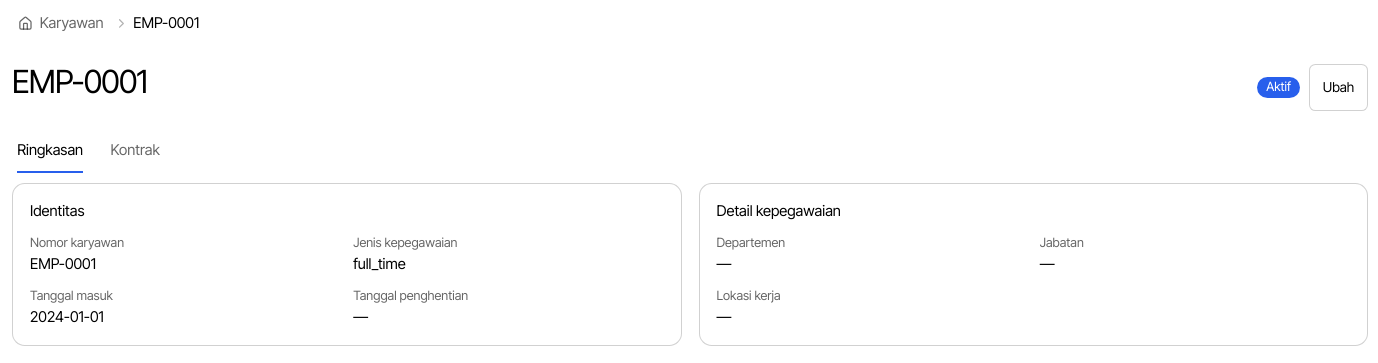
Test: EmployeeDetail branches › renders a contract with inactive state badge
The image size is (1378, 363).
Expected: the heading "EMP-0001" is shown, [12, 64, 147, 100]
Click the tab "Kontrak": (135, 151) [110, 128, 161, 174]
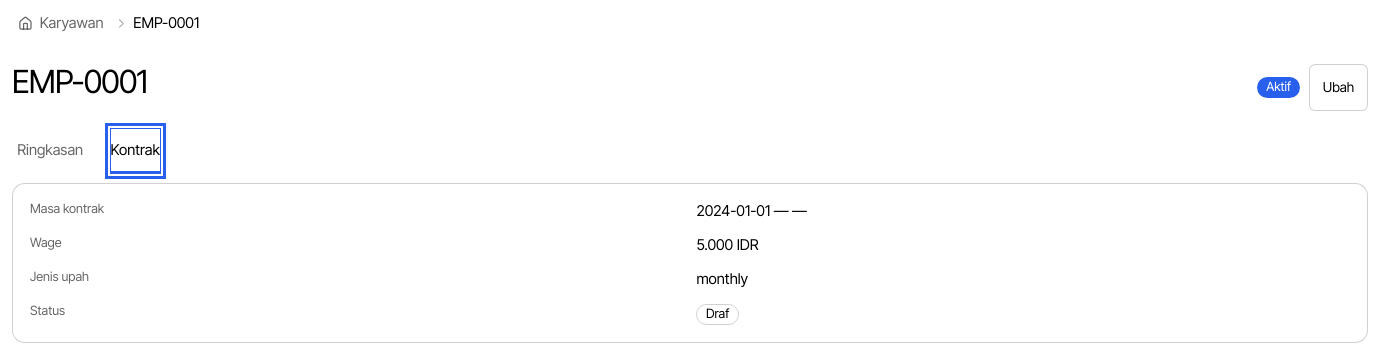
Expected: the text "5.000 IDR" is shown, [696, 236, 759, 254]
